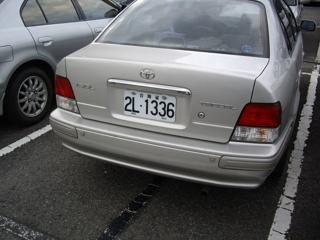plate: (122, 88, 178, 125)
